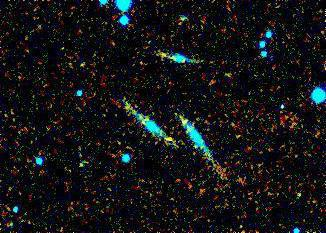star: (169, 122, 199, 152)
